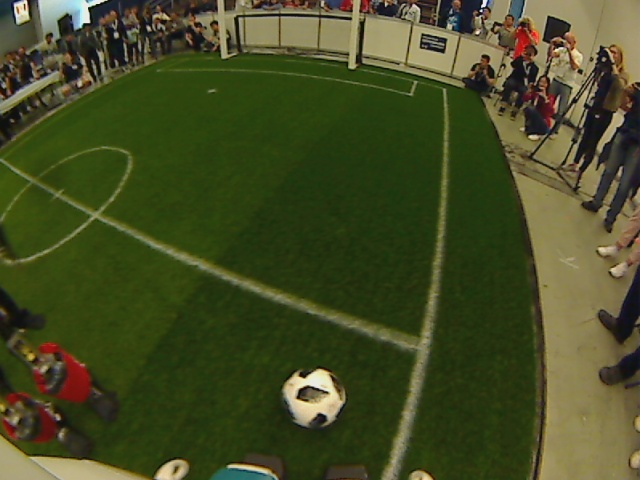ball: (280, 362, 347, 432)
